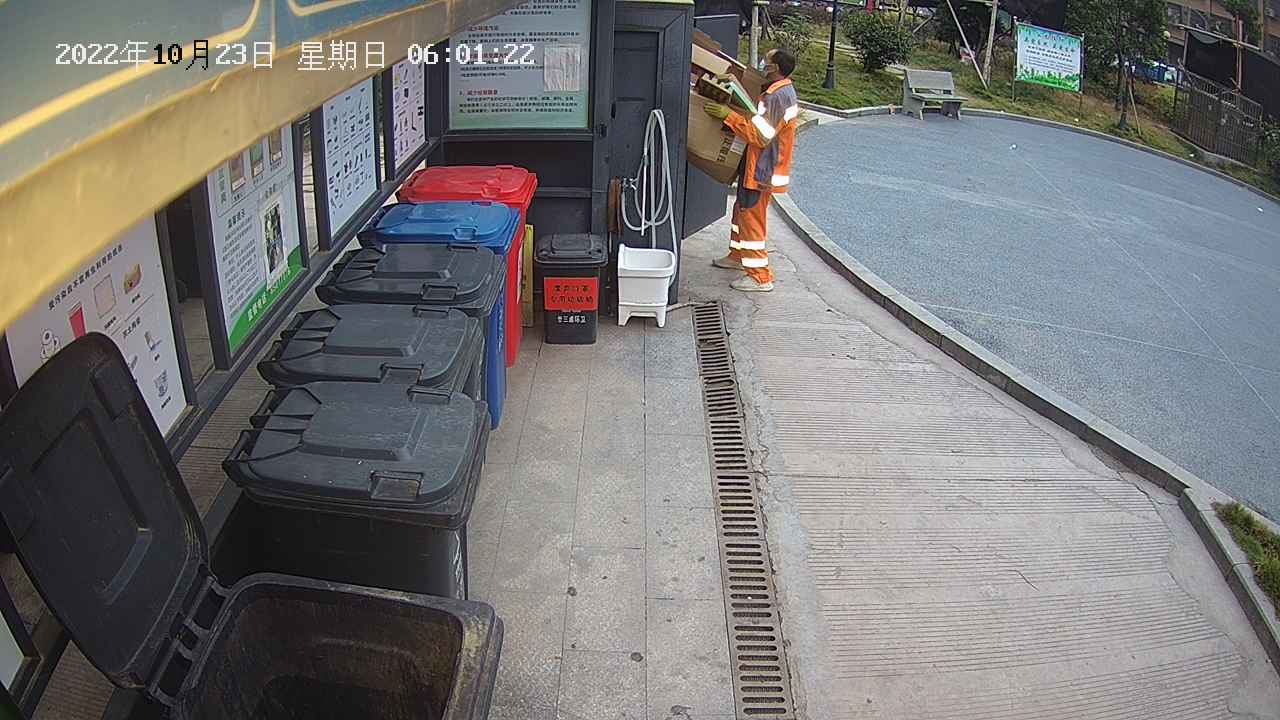worker: (705, 46, 802, 296)
zhizhipin: (682, 24, 772, 190)
